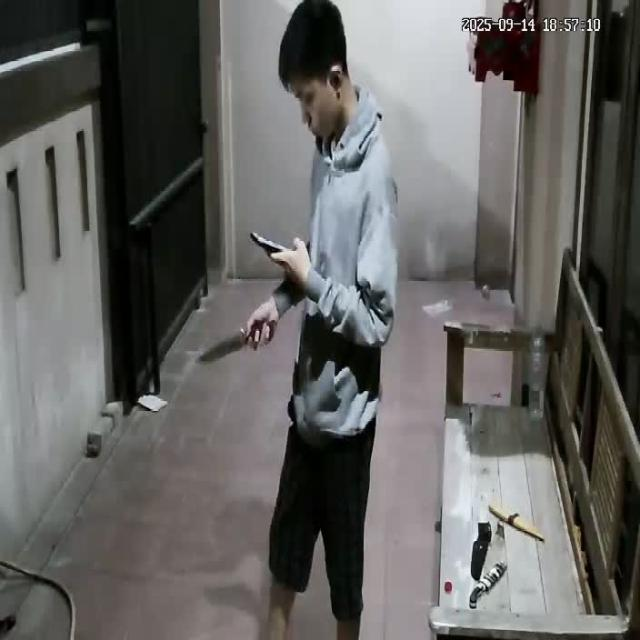senjata_tajam: (193, 324, 249, 369)
